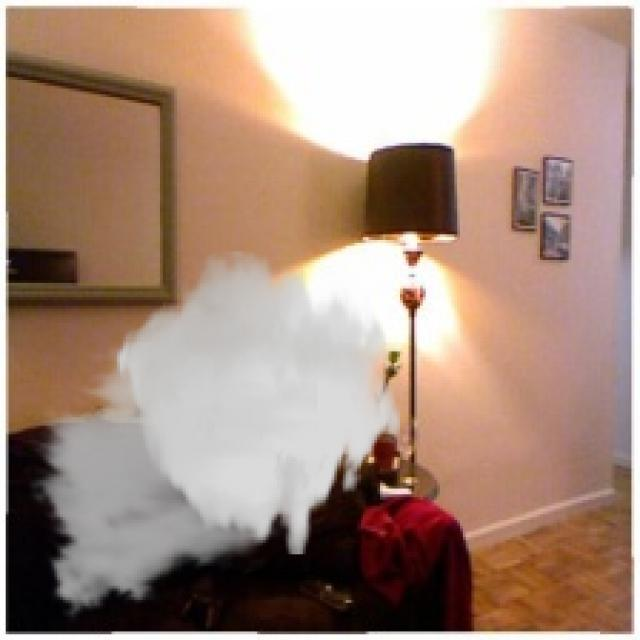Smoke: (28, 251, 403, 626)
